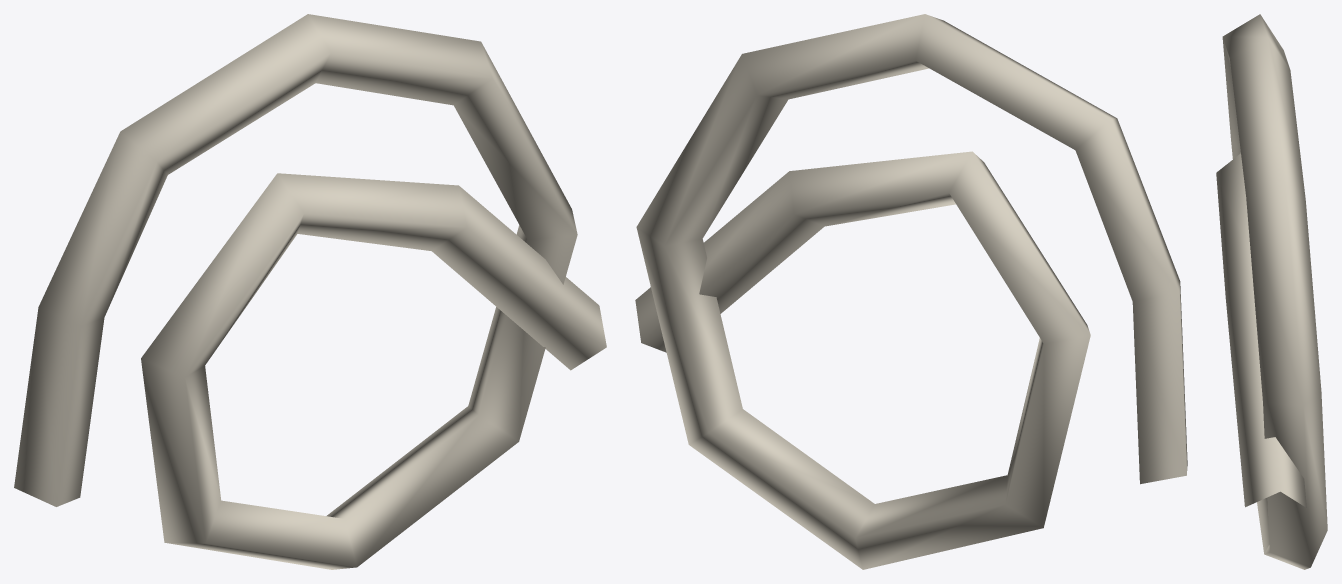
Rendered from noodle.glb.
The picture shows the model from 3 angles, left to right: view 1: azimuth 30°, elevation 25°; view 2: azimuth 150°, elevation 25°; view 3: azimuth 270°, elevation 25°; orthographic projection. The views are drawn at different scales.
Parts seen in each view (by area): view 1: noodle; view 2: noodle; view 3: noodle.
Part boxes in pixels (left/top/right/bottom): noodle: left=14, top=14, right=606, bottom=569; noodle: left=635, top=14, right=1187, bottom=569; noodle: left=1216, top=14, right=1327, bottom=569.
Size of the model in its own units: 0.4686 by 0.4467 by 0.088.
